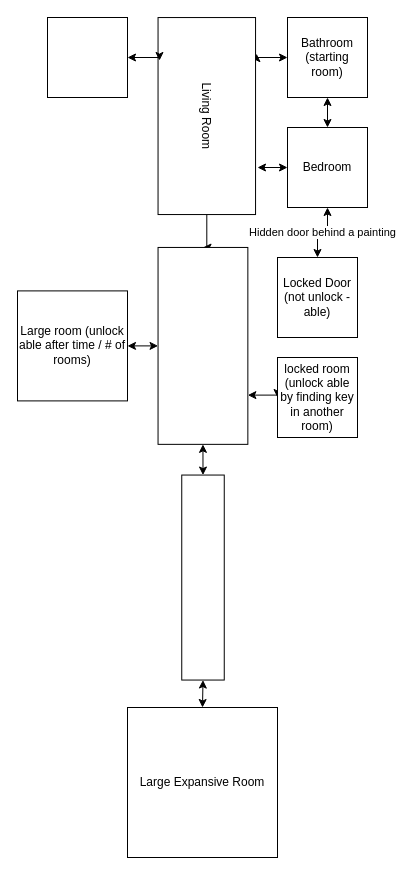
This 413x875 diagram has some shape labels left out. The centre of each missing label's shape, as x and y in pixels:
"Hallway" belongs at (x=202, y=345).
"Kitchen" belongs at (x=87, y=57).
"Narrow Hallway" belongs at (x=202, y=577).
